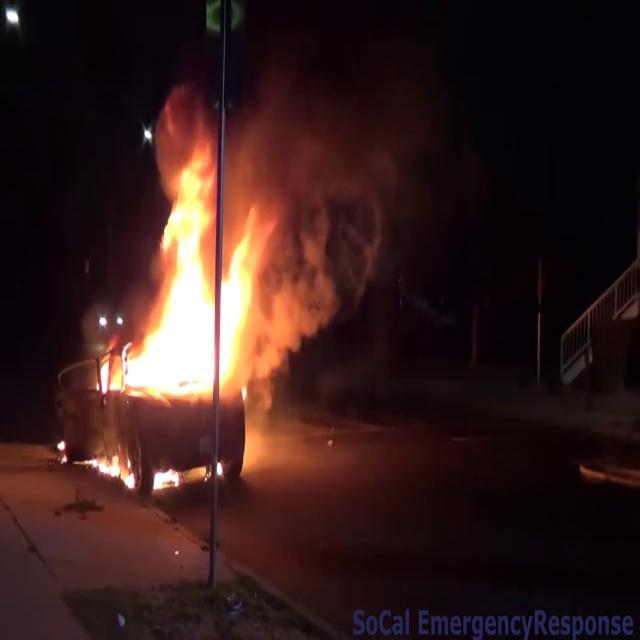Fire: (94, 135, 276, 397)
Smoke: (248, 32, 416, 284)
